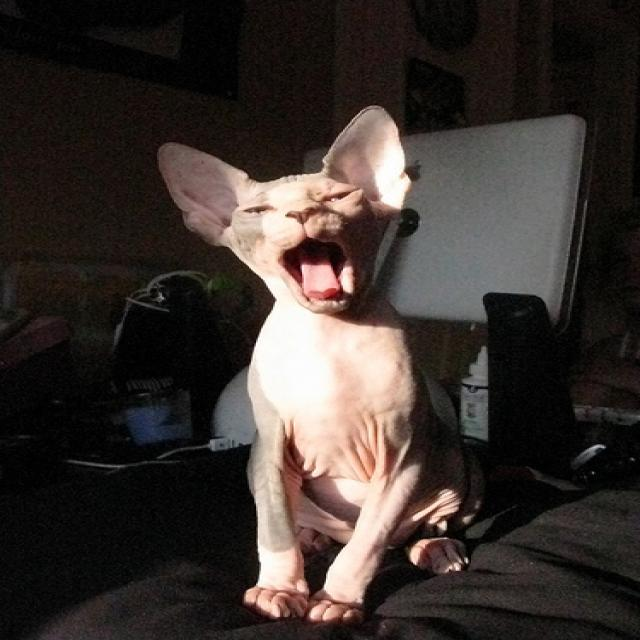cat: (155, 102, 408, 312)
